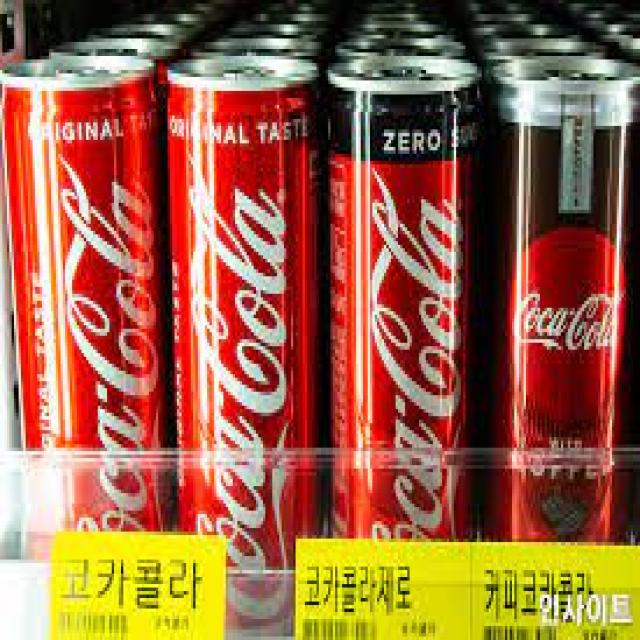Coca-Cola: (0, 56, 169, 623), (166, 62, 324, 624)
